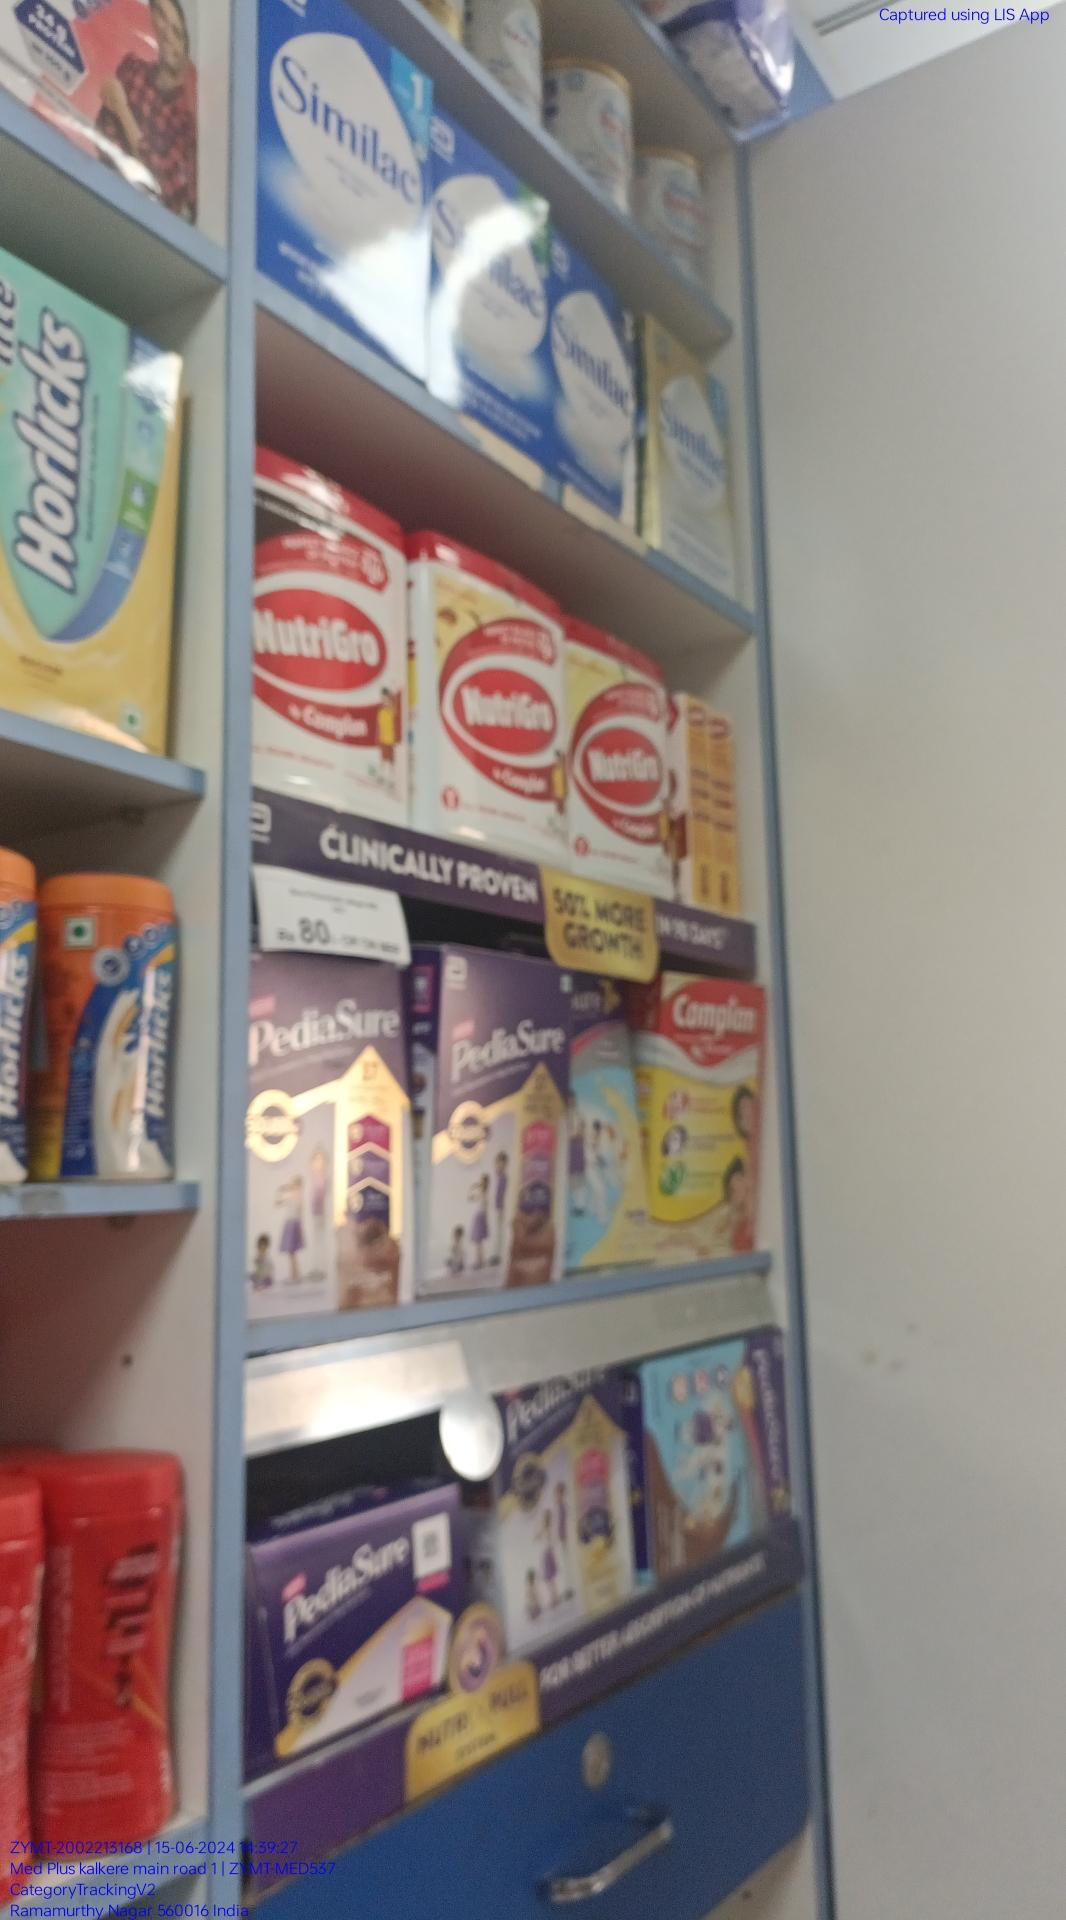COMPLAN_KESAR_BADAM_500_GMS_PACK: (652, 970, 768, 1264)
HORLICK_CLASSIC_MALT_500_G_JAR: (41, 877, 182, 1182)
PEDIASURE_CHOCOLATE_500_G_PACK: (248, 951, 423, 1303), (425, 953, 566, 1285)
